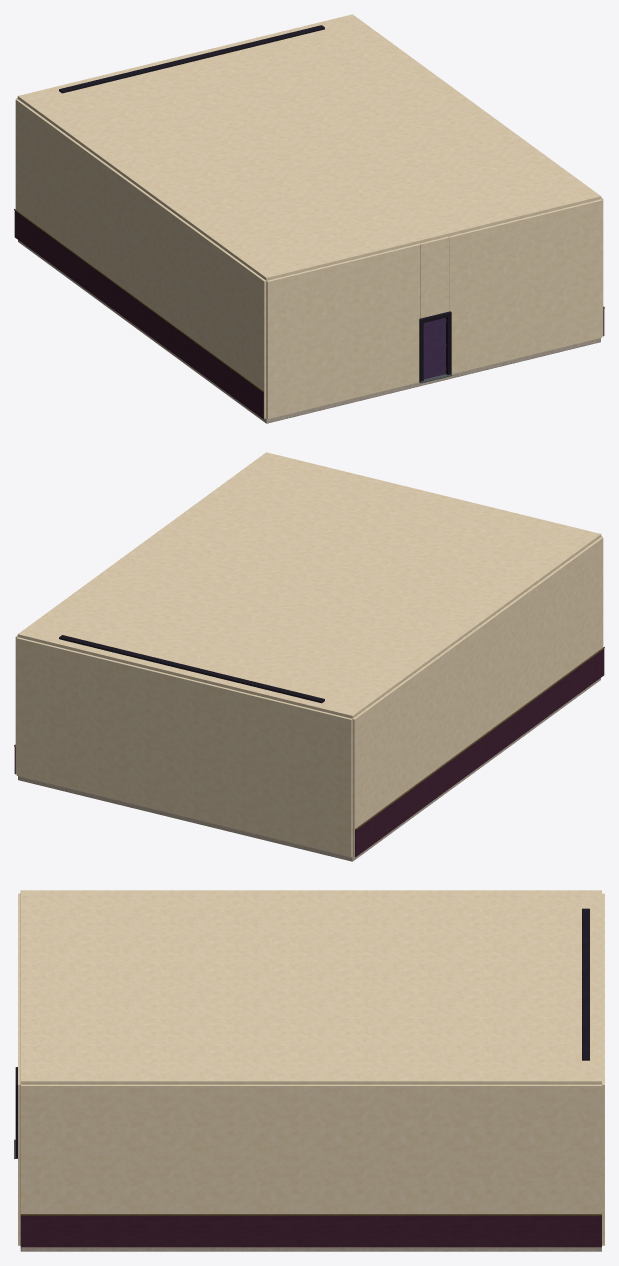
Rendered from explore3d__screening_room.glb.
3 views of the same model, one above another, from view 1: azimuth 30°, elevation 25°; view 2: azimuth 150°, elevation 25°; view 3: azimuth 270°, elevation 25° (orthographic). The views are drawn at different scales.
Parts seen in each view (by area): view 1: ceiling.025, wall.069, wall.067, wall.066, lower_panel.068, screening_room_floor, door_lintel.017, screen_frame, front.025_leaf, panel_rail.068; view 2: ceiling.025, wall.068, wall.069, lower_panel.068, screening_room_floor, screen_frame, panel_rail.068; view 3: ceiling.025, wall.070, lower_panel.069, screening_room_floor, screen_frame, panel_rail.069, wall.068, wall.066.
Part boxes in pixels (box(x1,y1,x2,y2)): ceiling.025: box(17, 14, 601, 280); wall.069: box(15, 99, 266, 418); wall.067: box(266, 243, 420, 419); wall.066: box(448, 199, 602, 374); lower_panel.068: box(14, 211, 263, 419); screening_room_floor: box(18, 240, 600, 423); door_lintel.017: box(420, 236, 448, 318); screen_frame: box(59, 25, 324, 93); front.025_leaf: box(423, 317, 445, 379); panel_rail.068: box(14, 209, 263, 391); ceiling.025: box(17, 452, 601, 718); wall.068: box(16, 637, 352, 857); wall.069: box(352, 537, 603, 856); lower_panel.068: box(355, 649, 604, 857); screening_room_floor: box(18, 678, 600, 861); screen_frame: box(59, 635, 324, 703); panel_rail.068: box(355, 647, 604, 829); ceiling.025: box(20, 890, 601, 1084); wall.070: box(20, 1084, 601, 1213); lower_panel.069: box(20, 1215, 601, 1247); screening_room_floor: box(20, 1247, 601, 1251); screen_frame: box(582, 908, 589, 1060); panel_rail.069: box(20, 1214, 601, 1215); wall.068: box(602, 893, 604, 1245); wall.066: box(18, 997, 20, 1245).
Bounding box in the file's own units: 14.32 × 5.92 × 18.3.
Materials: 14 (13 with a texture image).
